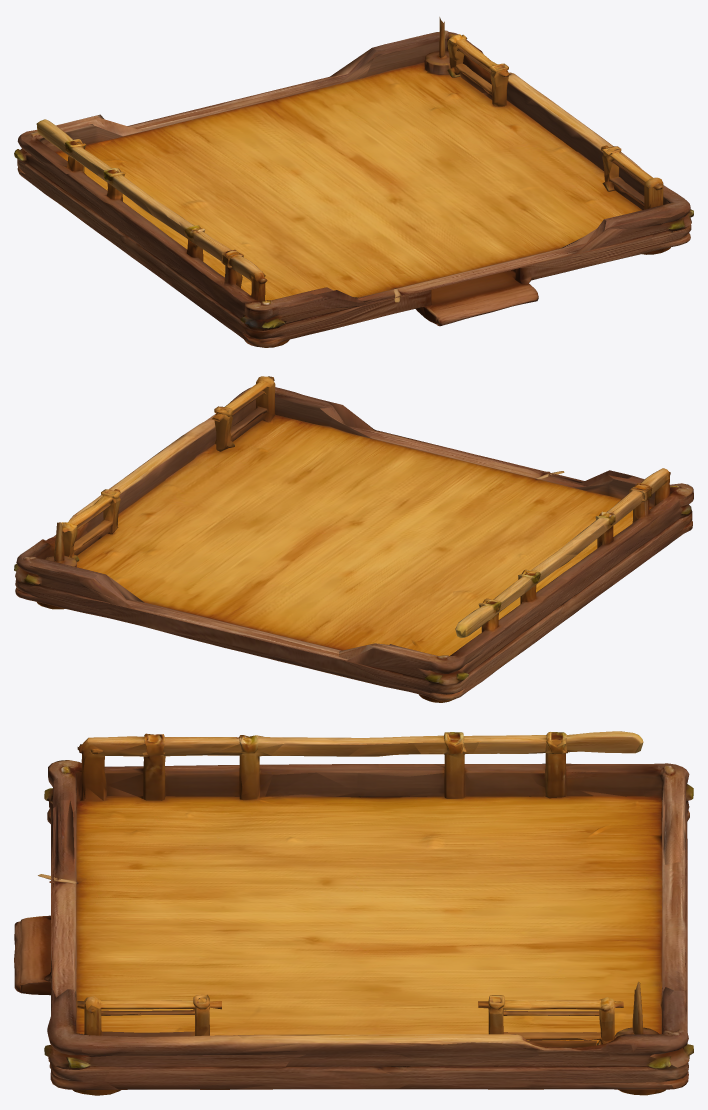
The model's file is theatre_lift.glb.
The picture shows the model from 3 angles, top to bottom: view 1: azimuth 30°, elevation 25°; view 2: azimuth 150°, elevation 25°; view 3: azimuth 270°, elevation 25°; orthographic projection. The views are drawn at different scales.
Visible parts, largest first — view 1: tripo_node_0eae9658-4f8c-452a-991e-49a33427f2ba; view 2: tripo_node_0eae9658-4f8c-452a-991e-49a33427f2ba; view 3: tripo_node_0eae9658-4f8c-452a-991e-49a33427f2ba.
Boxes of the visible parts, <box> form: tripo_node_0eae9658-4f8c-452a-991e-49a33427f2ba: <box>14,17,693,347</box>; tripo_node_0eae9658-4f8c-452a-991e-49a33427f2ba: <box>14,376,693,702</box>; tripo_node_0eae9658-4f8c-452a-991e-49a33427f2ba: <box>14,731,693,1095</box>.
Size of the model in its own units: 0.48 by 0.0822 by 0.48.
Materials: 1 (1 with a texture image).
